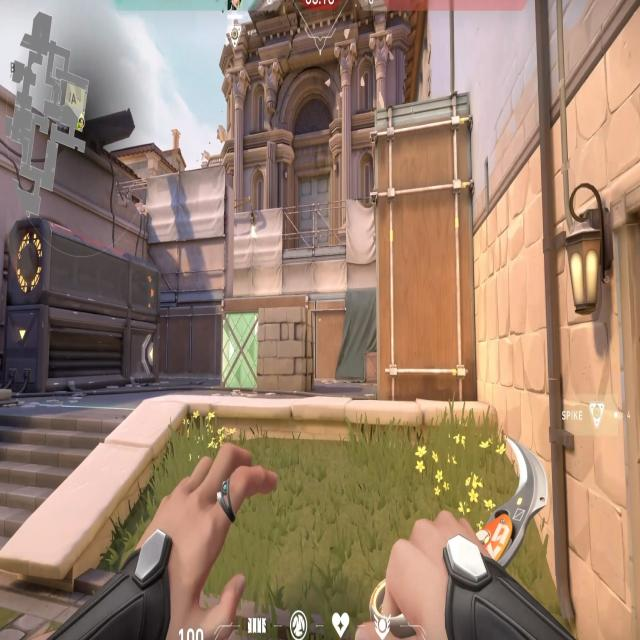A_Heaven_Wall: (143, 165, 234, 308)
A_Site_Box: (220, 293, 318, 398)
